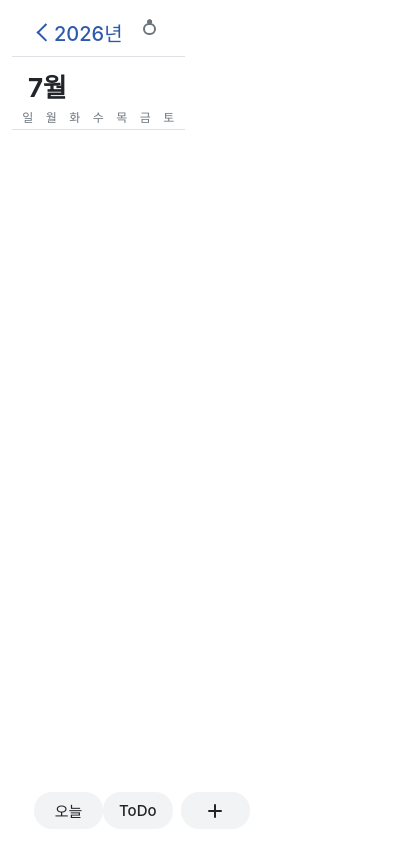
Test: 뷰 전환 › Month 뷰에서 뒤로가기를 누르면 Year 뷰로 이동한다
expect the element with test id "view-month" is shown: met, box [12,57,185,130]
Click the button with test id "btn-back".
click(79, 34)  # box [28,12,131,56]
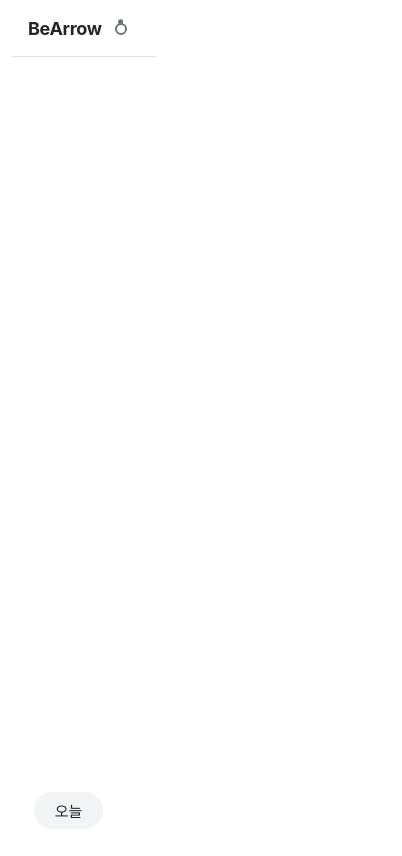
expect the element with test id "view-year" is shown: met, box [12,57,156,855]
